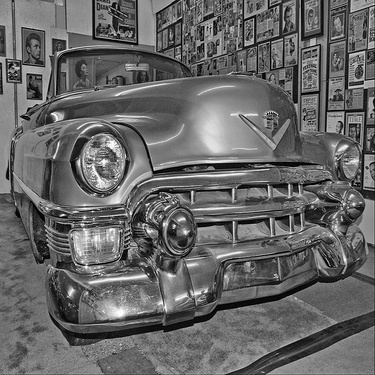car: (3, 42, 370, 354)
